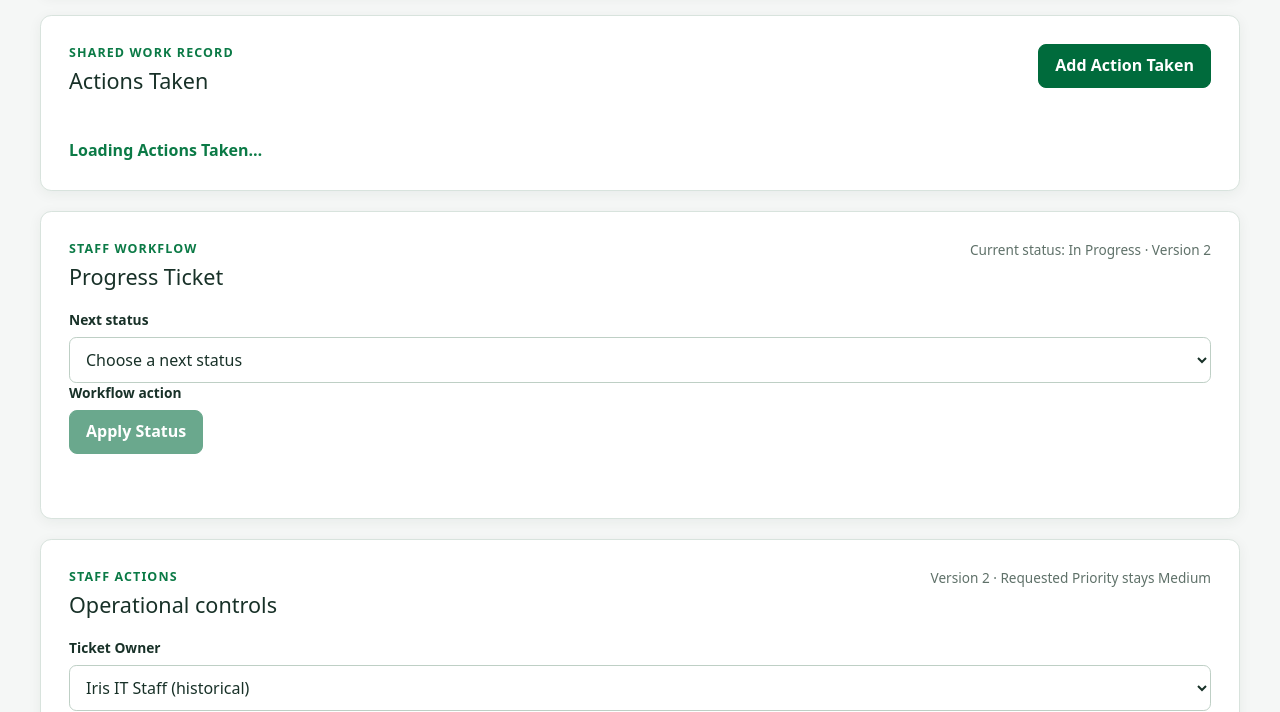
Test: Lab 4 Ticket workflow controls › lists every RESOLUTION_GATE_FAILED reason beside Apply Status in returned order
This screenshot has width=1280, height=712.
(page scrolled)
Select "Resolved" in the dropdown labelled "Next status": (640, 360) [69,337,1211,383]
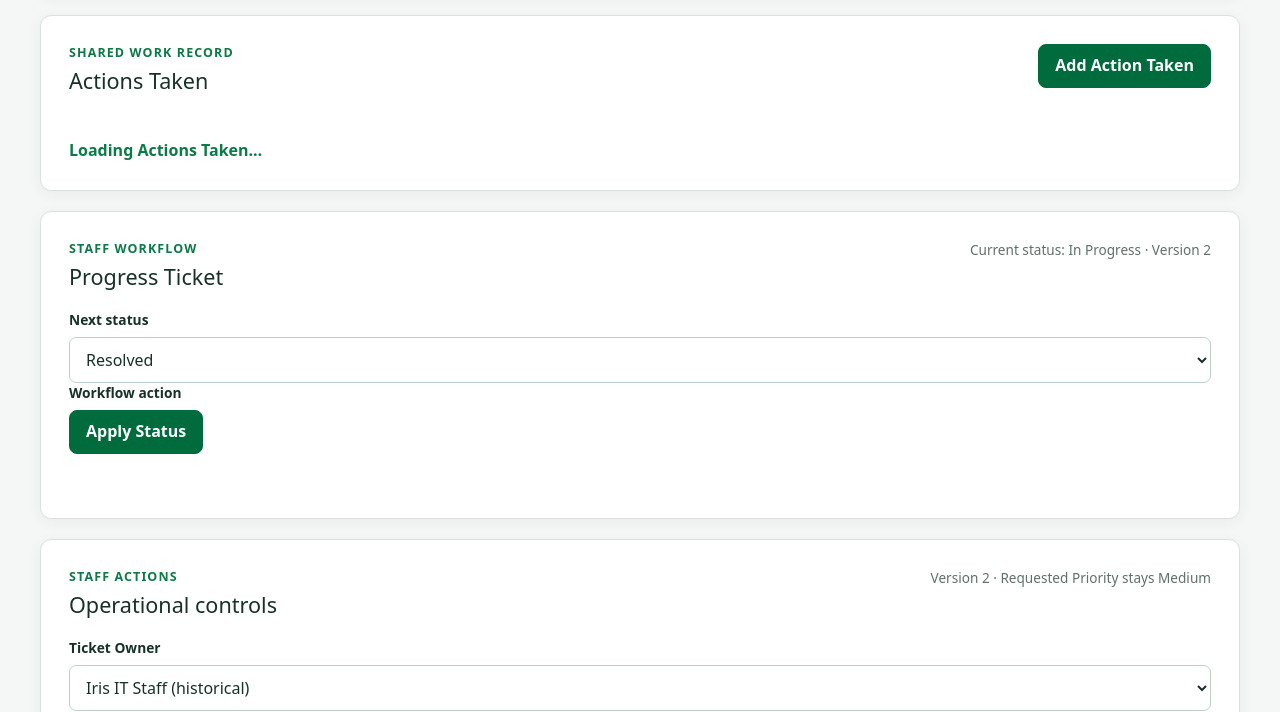
Click the button "Apply Status": (136, 432) [69,410,203,454]
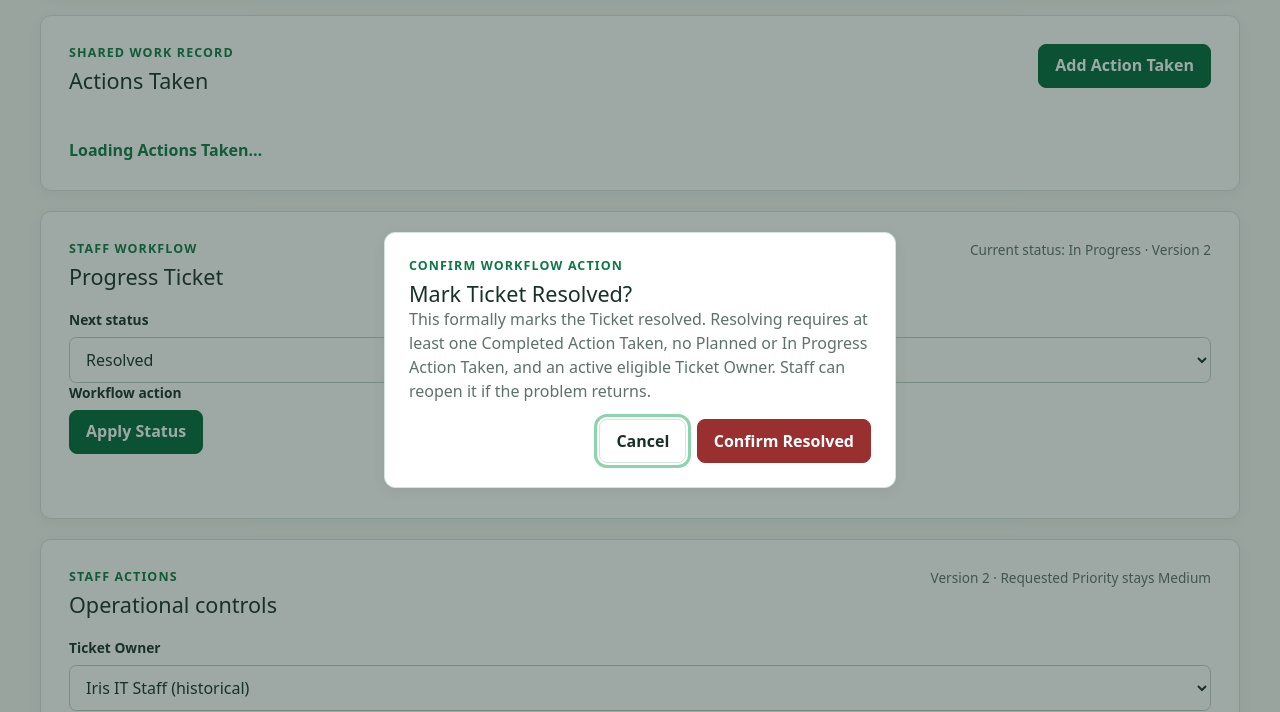
Click the button "Confirm Resolved": (784, 441) [697,419,871,463]
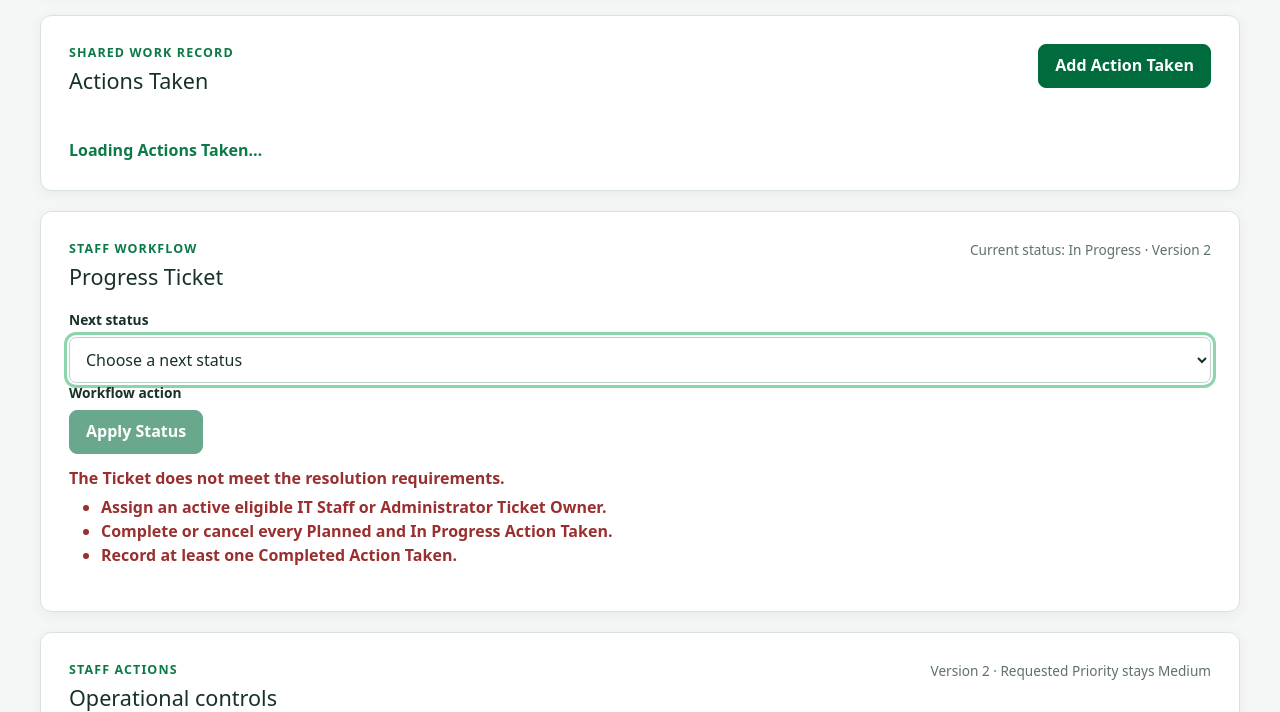
Check: the number of list items is 3, box [101,496,607,518]; [101,520,612,542]; [101,544,457,566]
Check: the 1st list item shows "Ticket Owner", box [101,496,607,518]
Check: the 2nd list item shows "Planned and In Progress", box [101,520,612,542]
